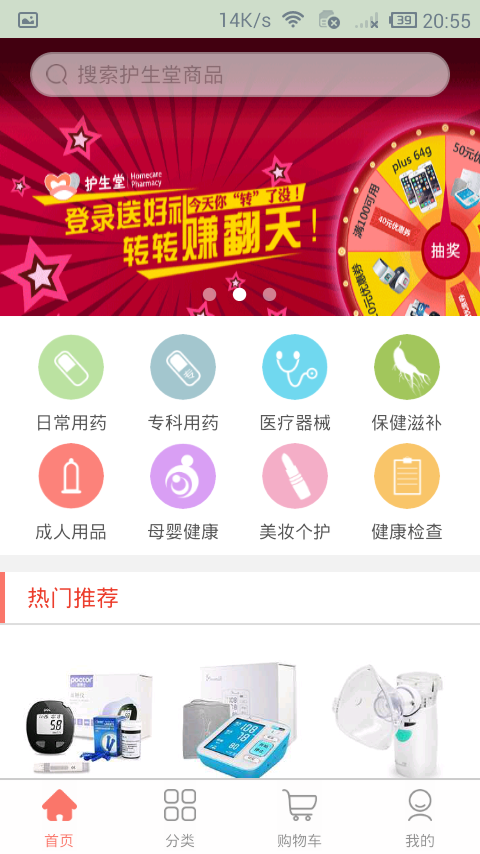imgbutton: (245, 330, 336, 407), (360, 329, 452, 404), (251, 440, 341, 514), (364, 443, 454, 514), (29, 331, 113, 403), (140, 440, 225, 510), (142, 329, 224, 401), (32, 440, 114, 512)
imgview: (4, 103, 479, 317), (9, 656, 162, 779), (176, 652, 315, 776), (325, 653, 463, 775)
nav: (2, 780, 478, 854)
textview: (2, 570, 480, 628), (29, 52, 455, 102)
